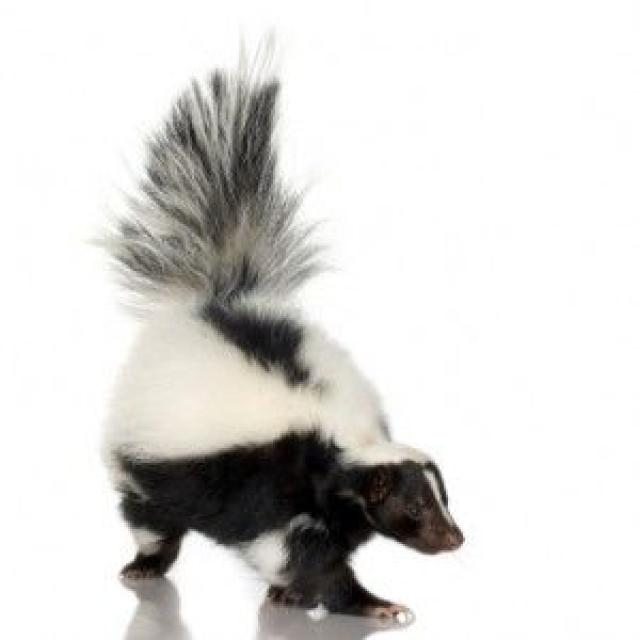Skunk: (41, 56, 462, 631)
